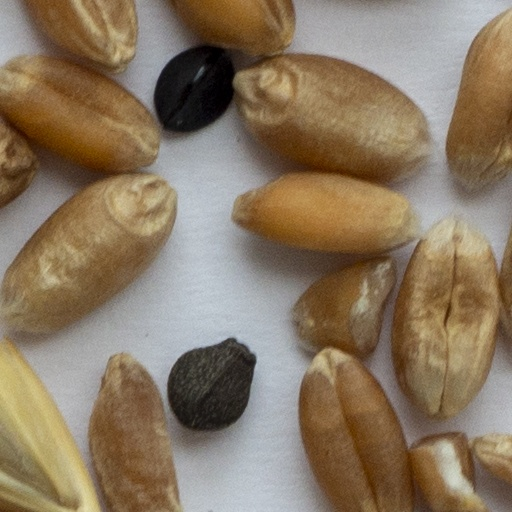Wheat-grain-damaged-poly: (284, 259, 396, 356), (409, 430, 499, 511)
